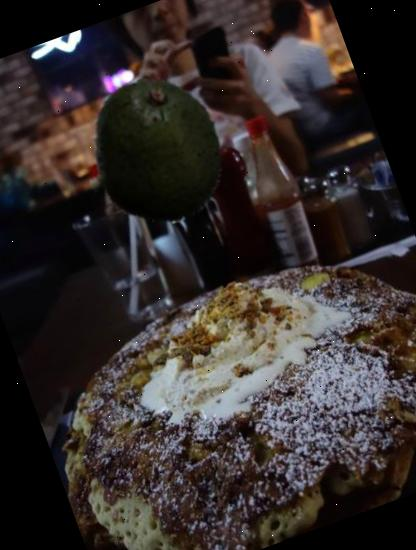Avocado: (58, 56, 249, 248)
